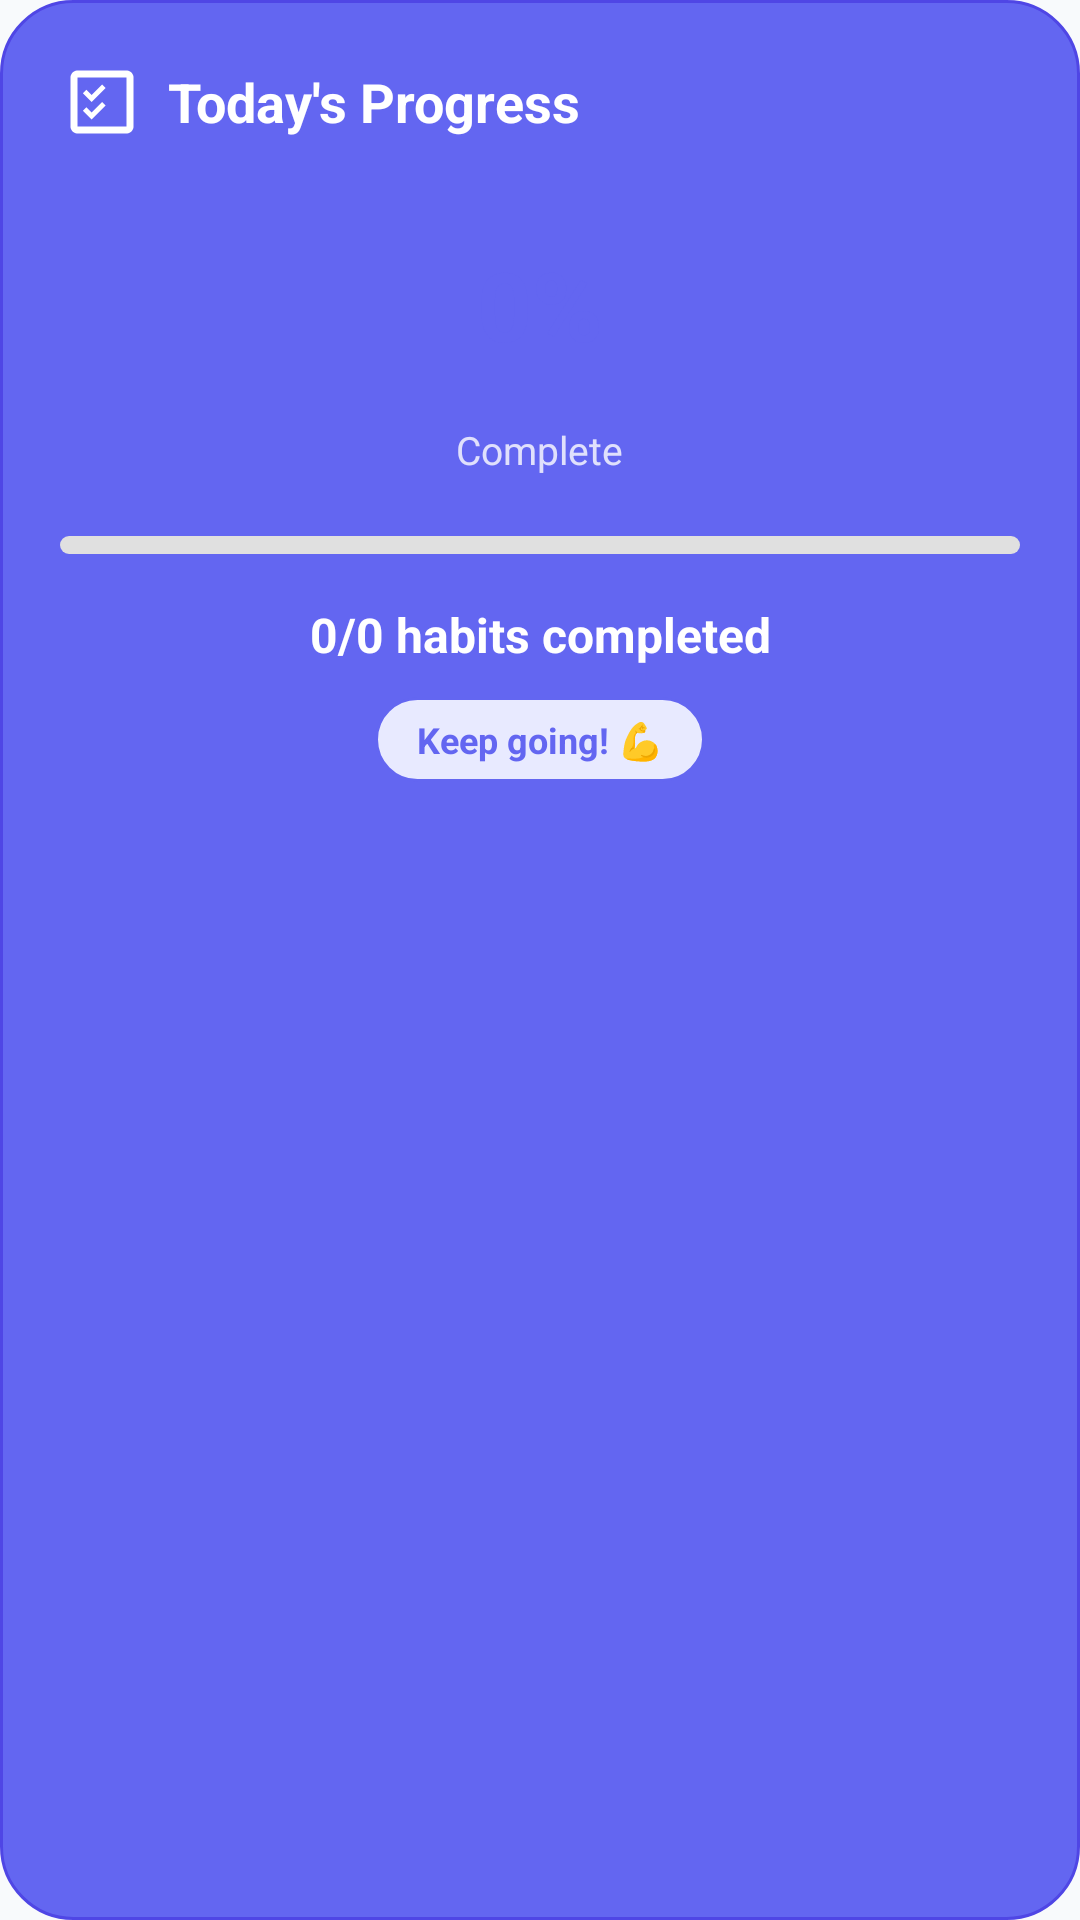

Named icons in this screenshot (1080px×1920px) and their centers, [x,y]:
habits: [102,102]
